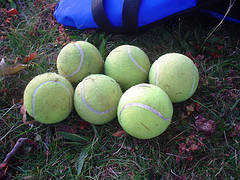tennis ball: (117, 83, 174, 142), (22, 73, 75, 125), (148, 51, 201, 103), (74, 74, 124, 124), (104, 44, 152, 90), (56, 41, 105, 83)
